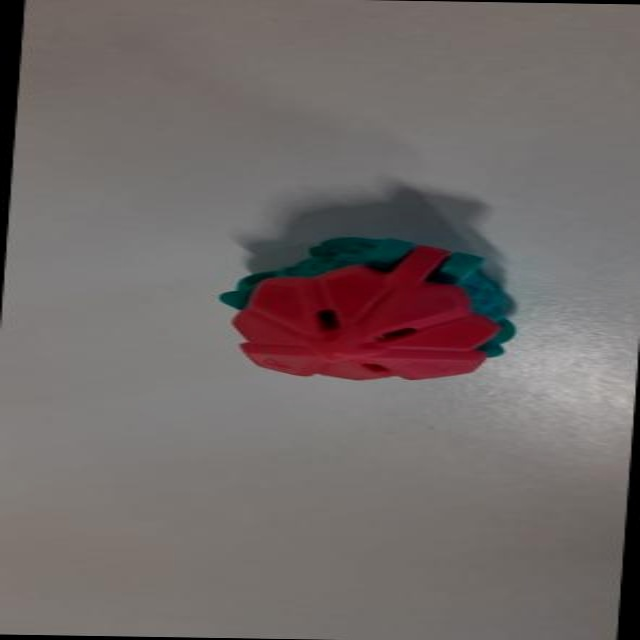House: (210, 226, 538, 396)
